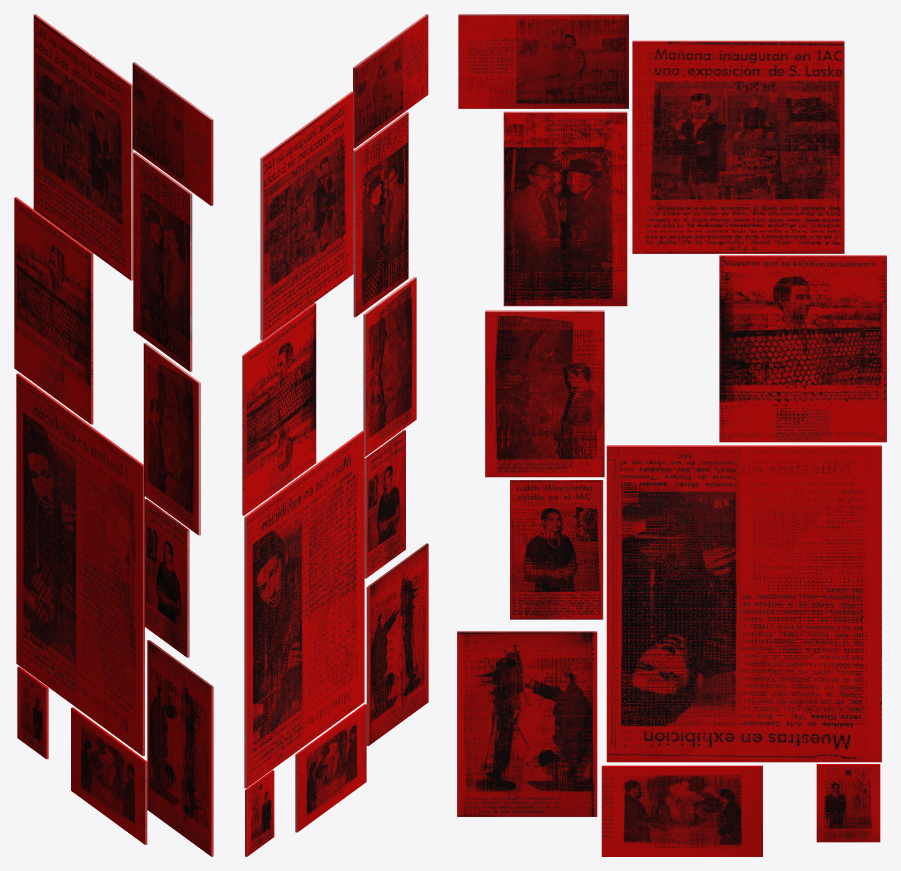
Rendered from modelo-ar-mac.gltf.
The picture shows the model from 3 angles, left to right: view 1: azimuth 30°, elevation 25°; view 2: azimuth 150°, elevation 25°; view 3: azimuth 270°, elevation 25°; orthographic projection. The views are drawn at different scales.
Visible parts, largest first — view 1: foto-1, foto-2, foto-3, foto-7, foto-4, foto-5, foto-10, foto-8, foto-6, foto-9; view 2: foto-1, foto-2, foto-3, foto-7, foto-4, foto-5, foto-10, foto-8, foto-6, foto-9; view 3: foto-1, foto-2, foto-3, foto-7, foto-4, foto-5, foto-10, foto-8, foto-6, foto-9.
Part boxes in pixels (bbox=[...]): foto-1: bbox=[16, 373, 144, 756]; foto-2: bbox=[33, 14, 133, 280]; foto-3: bbox=[14, 197, 93, 424]; foto-7: bbox=[147, 639, 213, 856]; foto-4: bbox=[133, 152, 192, 371]; foto-5: bbox=[143, 342, 200, 535]; foto-10: bbox=[132, 62, 213, 205]; foto-8: bbox=[71, 707, 147, 844]; foto-6: bbox=[144, 498, 189, 657]; foto-9: bbox=[17, 666, 48, 759]; foto-1: bbox=[244, 431, 364, 788]; foto-2: bbox=[260, 91, 353, 340]; foto-3: bbox=[242, 303, 316, 515]; foto-7: bbox=[366, 543, 428, 746]; foto-4: bbox=[353, 112, 408, 317]; foto-5: bbox=[363, 277, 416, 456]; foto-10: bbox=[353, 14, 428, 148]; foto-8: bbox=[295, 704, 366, 832]; foto-6: bbox=[364, 430, 405, 578]; foto-9: bbox=[245, 770, 274, 856]; foto-1: bbox=[606, 445, 881, 762]; foto-2: bbox=[632, 40, 844, 253]; foto-3: bbox=[719, 255, 886, 442]; foto-7: bbox=[457, 631, 597, 816]; foto-4: bbox=[503, 111, 627, 306]; foto-5: bbox=[485, 310, 604, 477]; foto-10: bbox=[458, 14, 628, 108]; foto-8: bbox=[601, 765, 762, 856]; foto-6: bbox=[510, 480, 603, 619]; foto-9: bbox=[816, 764, 880, 842].
Bounding box in the file's own units: 0.0123 × 4.03 × 1.87.
10 materials, 10 textured.
